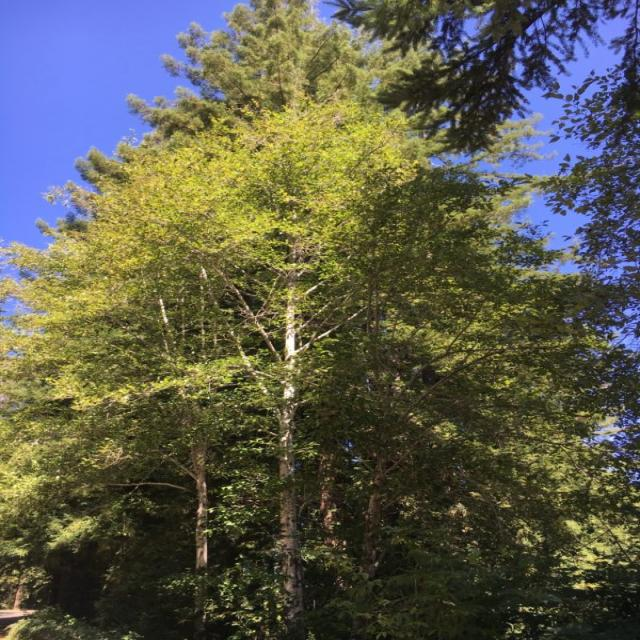Alnus rubra: (12, 0, 591, 629)
